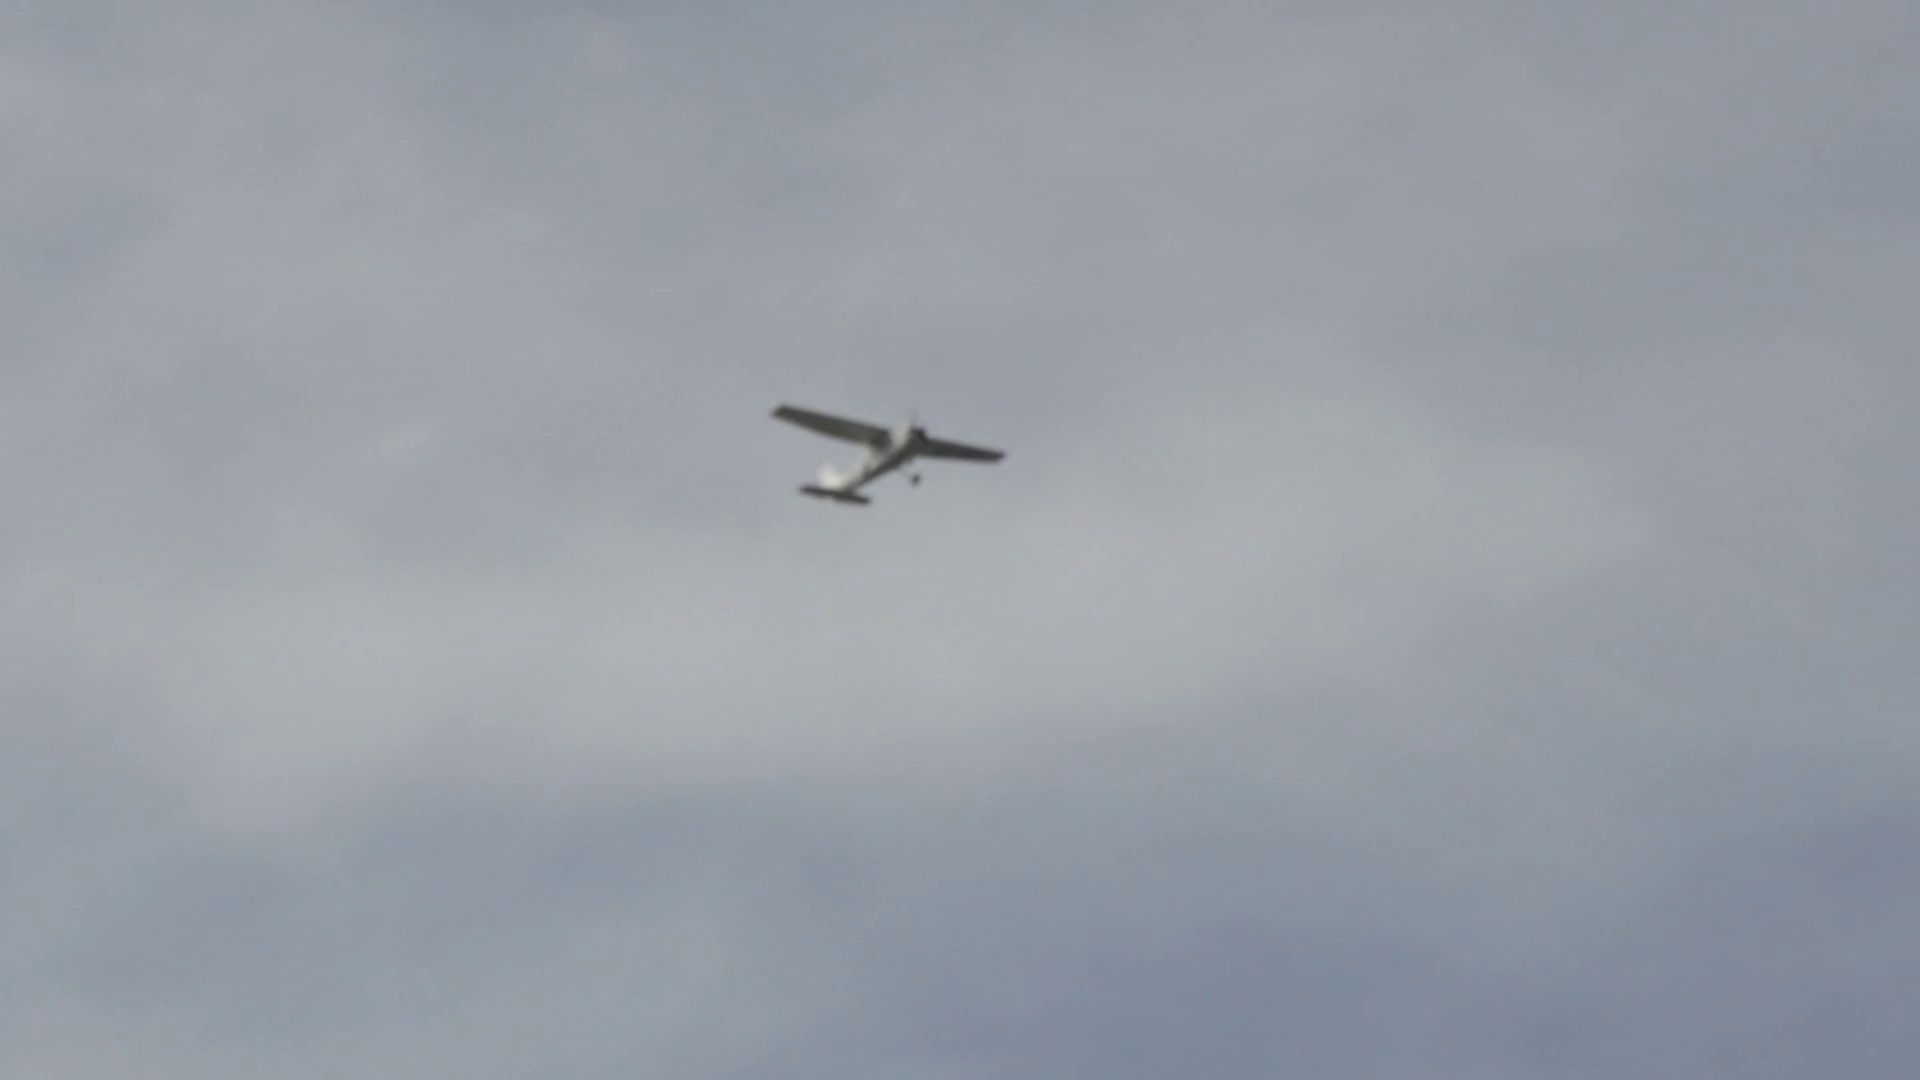plane: (767, 397, 1004, 506)
